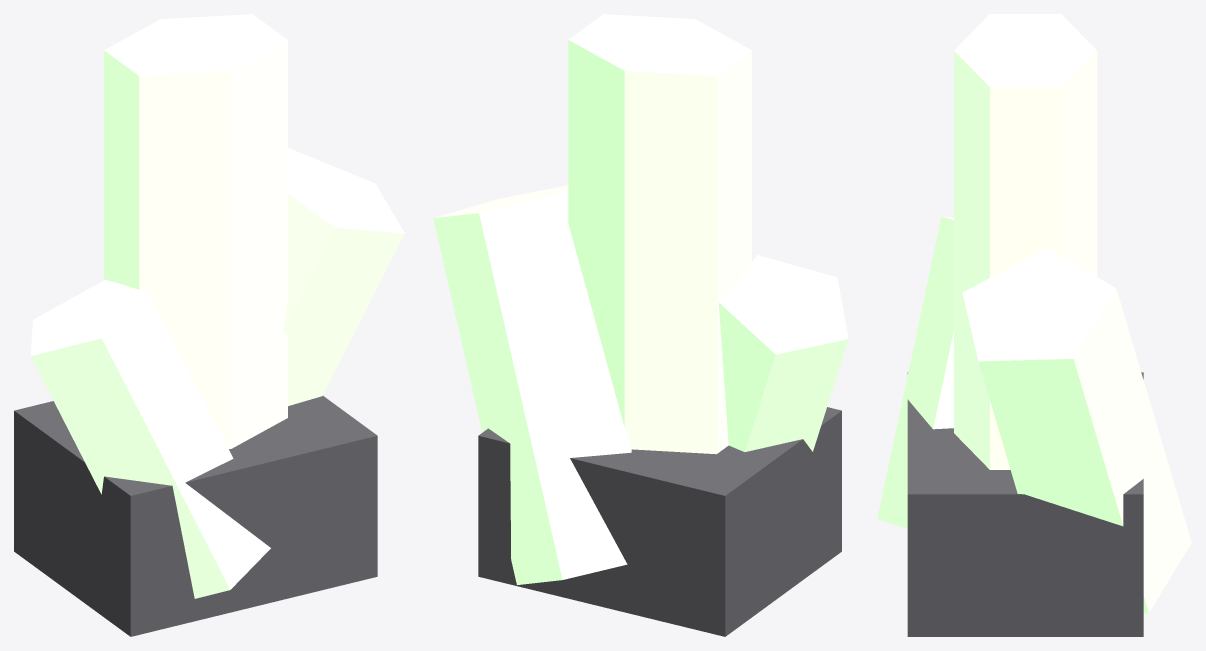
The model's file is AmberSapShard.glb.
3 views of the same model, side by side, from view 1: azimuth 30°, elevation 25°; view 2: azimuth 150°, elevation 25°; view 3: azimuth 270°, elevation 25° (orthographic).
Visible parts, largest first — view 1: AmberSapShard; view 2: AmberSapShard; view 3: AmberSapShard.
Part boxes in pixels (x1,y1,x2,y2): AmberSapShard: [14, 14, 404, 636]; AmberSapShard: [433, 14, 848, 636]; AmberSapShard: [877, 14, 1191, 636].
Bounding box in the file's own units: 1.86 × 2.47 × 1.32.
